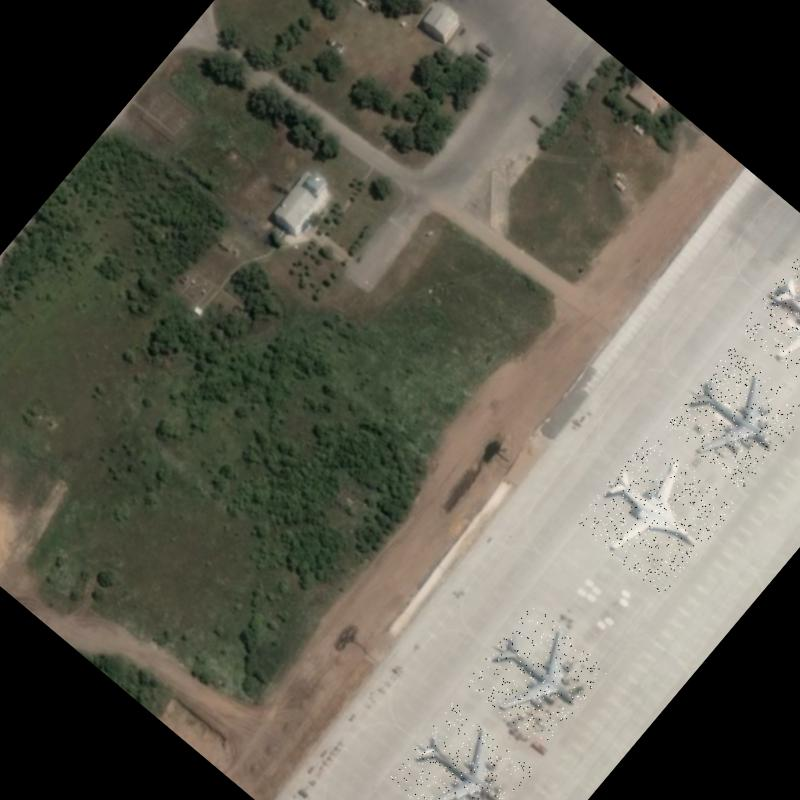A17: (464, 603, 610, 749), (664, 346, 800, 491), (386, 701, 534, 800)
A6: (574, 432, 736, 596), (737, 237, 800, 403)
